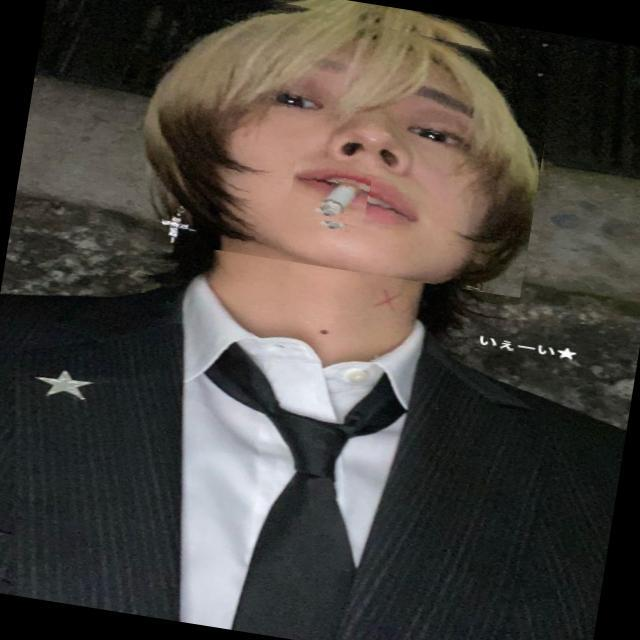cigarette: (287, 158, 373, 226)
